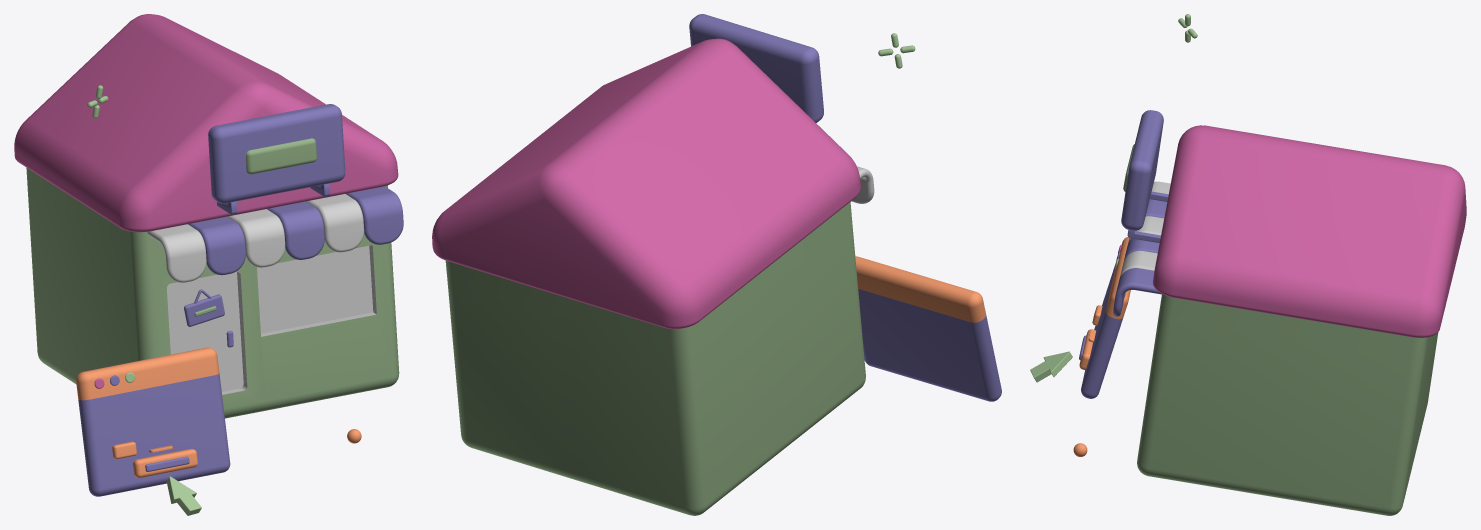
The model's file is store-traffic-3d-animated-icon-806128300887.glb.
3 views of the same model, side by side, from view 1: azimuth 30°, elevation 25°; view 2: azimuth 150°, elevation 25°; view 3: azimuth 270°, elevation 25° (orthographic). The views are drawn at different scales.
Parts seen in each view (by area): view 1: Cube, Cube.001, Plane, Cube.003, Cube.007, Cube.002, Cube.013, Cube.019, Plane.001, Cube.020; view 2: Cube, Cube.001, Cube.003, Cube.007, Cube.002; view 3: Cube.001, Cube, Cube.007, Plane, Cube.003, Cube.002, Cube.020.
Boxes of the visible parts, <box> form: Cube: <box>26,167,399,418</box>; Cube.001: <box>14,14,398,232</box>; Plane: <box>147,186,403,282</box>; Cube.003: <box>78,373,230,496</box>; Cube.007: <box>208,104,345,214</box>; Cube.002: <box>76,347,219,400</box>; Cube.013: <box>246,138,316,174</box>; Cube.019: <box>133,449,197,477</box>; Plane.001: <box>184,289,224,326</box>; Cube.020: <box>166,476,201,515</box>; Cube: <box>445,202,865,515</box>; Cube.001: <box>432,38,860,329</box>; Cube.003: <box>858,289,1001,401</box>; Cube.007: <box>689,14,823,122</box>; Cube.002: <box>855,256,985,322</box>; Cube.001: <box>1153,125,1466,337</box>; Cube: <box>1137,294,1438,515</box>; Cube.007: <box>1121,110,1168,242</box>; Plane: <box>1113,181,1170,316</box>; Cube.003: <box>1081,261,1122,398</box>; Cube.002: <box>1105,237,1130,319</box>; Cube.020: <box>1030,351,1072,382</box>.
Size of what is drawn, in the model's own units: 1.88 by 1.87 by 2.02.
